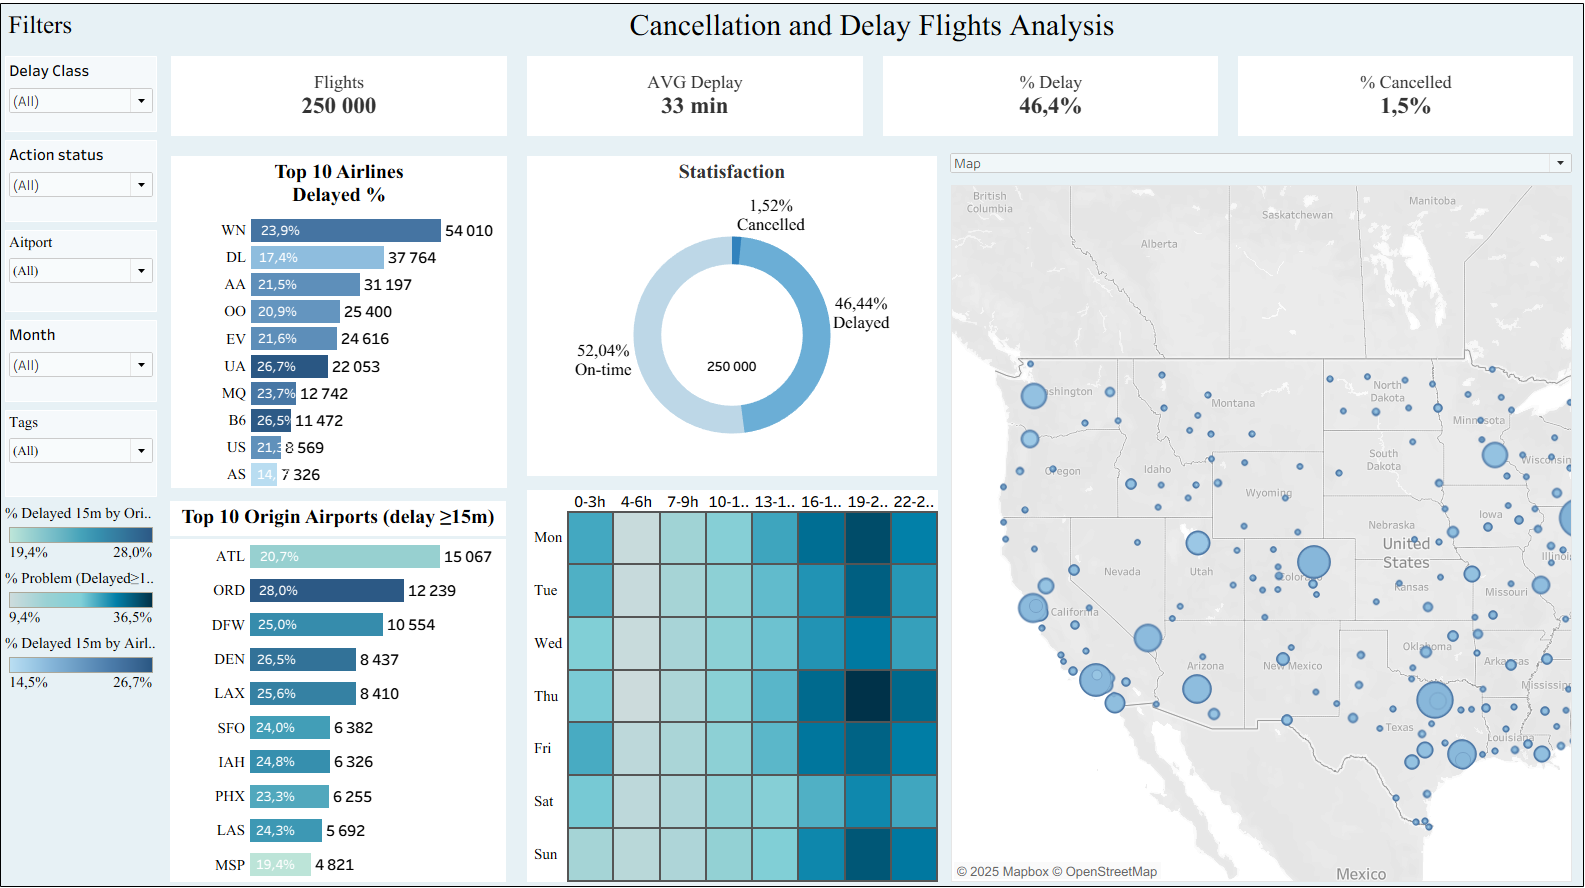

The page's visual inventory and layout, read from the dashboard file:
{"tool":"tableau","page":{"name":"Air Underdog","canvas":[1600,900],"ordinal":0},"visuals":[{"type":"text","box":[9,9,160,42]},{"type":"text","box":[169,9,1422,42]},{"type":"filter","title":"Statisfaction","param":"[federated.1hv3qde1ofenso1ep36o11guu0ek].[none:Calculation_911978980892692481:nk","box":[9,51,160,90]},{"type":"worksheet","title":"Number of Passengers","mark":"Automatic","box":[169,51,356,100]},{"type":"worksheet","title":"Average Arrival Delay","mark":"Automatic","box":[525,51,356,100]},{"type":"worksheet","title":"Average Departure Delay","mark":"Automatic","box":[881,51,355,100]},{"type":"worksheet","title":"Average Flight Distance","mark":"Automatic","box":[1236,51,355,100]},{"type":"filter","title":"Timeline","param":"[federated.1hv3qde1ofenso1ep36o11guu0ek].[Action (Status (bucket))]","box":[9,141,160,90]},{"type":"worksheet","title":"Top 10 Air","mark":"Bar","rows":["Airline"],"cols":["Calculation_1501669056712376346","Calculation_1509550356877598720"],"box":[169,151,355.7,352]},{"type":"worksheet","title":"Statisfaction","mark":"Pie","rows":["Calculation_1501669056699928599","Calculation_1501669056699961369"],"box":[524.7,151,430.3,340]},{"type":"parameter","param":"[Parameters].[Parameter 2]","box":[955,151,636,34]},{"type":"worksheet","title":"Timeline","mark":"Bar","rows":["Calculation_1501669056584040463","Calculation_1501669056717160476"],"cols":["Calculation_1501669056583946254"],"box":[955,185,636,1]},{"type":"worksheet","title":"Map","mark":"Circle","rows":["Calculation_1882786175480266769"],"cols":["Calculation_1882786175481008146"],"box":[955,186,636,705]},{"type":"filter","title":"Top 10 Origin Airports (delay ≥15m)","param":"[federated.1hv3qde1ofenso1ep36o11guu0ek].[attr:AIRPORT (airports.csv):nk]","box":[9,231,160,90]},{"type":"filter","title":"Timeline","param":"[federated.1hv3qde1ofenso1ep36o11guu0ek].[tmn:Calculation_1501669056583946254:ok","box":[9,321,160,90]},{"type":"filter","title":"DelayedF","param":"[federated.1hv3qde1ofenso1ep36o11guu0ek].[none:Calculation_739716295340027906:nk","box":[9,411,160,95]},{"type":"worksheet","title":"DelayedF","mark":"Square","rows":["Calculation_739716295340027906"],"cols":["Calculation_739716295339917313"],"box":[524.7,491,430.3,400]},{"type":"worksheet","title":"Top 10 Origin Airports (delay ≥15m)","mark":"Bar","rows":["Origin Airport"],"cols":["Calculation_1501669056712376346","Calculation_1509550356877598720"],"box":[169,503,355.7,387.9]},{"type":"legend","title":"Top 10 Origin Airports (delay ≥15m)","param":"[federated.1hv3qde1ofenso1ep36o11guu0ek].[usr:Calculation_1882786175389724672:qk","box":[9,506,160,65]},{"type":"legend","title":"DelayedF","param":"[federated.1hv3qde1ofenso1ep36o11guu0ek].[usr:Calculation_1882786175450505217:qk","box":[9,571,160,65]},{"type":"legend","title":"Top 10 Air","param":"[federated.1hv3qde1ofenso1ep36o11guu0ek].[usr:Calculation_1501669056717262877:qk","box":[9,636,160,65]}]}

Visuals, with their boxes in screenshot pixels (x1, y1, x2, y2), scaled from the page's 1600x900 canvas onto the 1585x888 screenshot:
text: l=9, t=9, r=167, b=50
text: l=167, t=9, r=1576, b=50
"Statisfaction" filter: l=9, t=50, r=167, b=139
"Number of Passengers" worksheet: l=167, t=50, r=520, b=149
"Average Arrival Delay" worksheet: l=520, t=50, r=873, b=149
"Average Departure Delay" worksheet: l=873, t=50, r=1224, b=149
"Average Flight Distance" worksheet: l=1224, t=50, r=1576, b=149
"Timeline" filter: l=9, t=139, r=167, b=228
"Top 10 Air" worksheet (Bar marks): l=167, t=149, r=520, b=496
"Statisfaction" worksheet (Pie marks): l=520, t=149, r=946, b=484
parameter: l=946, t=149, r=1576, b=183
"Timeline" worksheet (Bar marks): l=946, t=183, r=1576, b=184
"Map" worksheet (Circle marks): l=946, t=184, r=1576, b=879
"Top 10 Origin Airports (delay ≥15m)" filter: l=9, t=228, r=167, b=317
"Timeline" filter: l=9, t=317, r=167, b=406
"DelayedF" filter: l=9, t=406, r=167, b=499
"DelayedF" worksheet (Square marks): l=520, t=484, r=946, b=879
"Top 10 Origin Airports (delay ≥15m)" worksheet (Bar marks): l=167, t=496, r=520, b=879
"Top 10 Origin Airports (delay ≥15m)" legend: l=9, t=499, r=167, b=563
"DelayedF" legend: l=9, t=563, r=167, b=628
"Top 10 Air" legend: l=9, t=628, r=167, b=692
